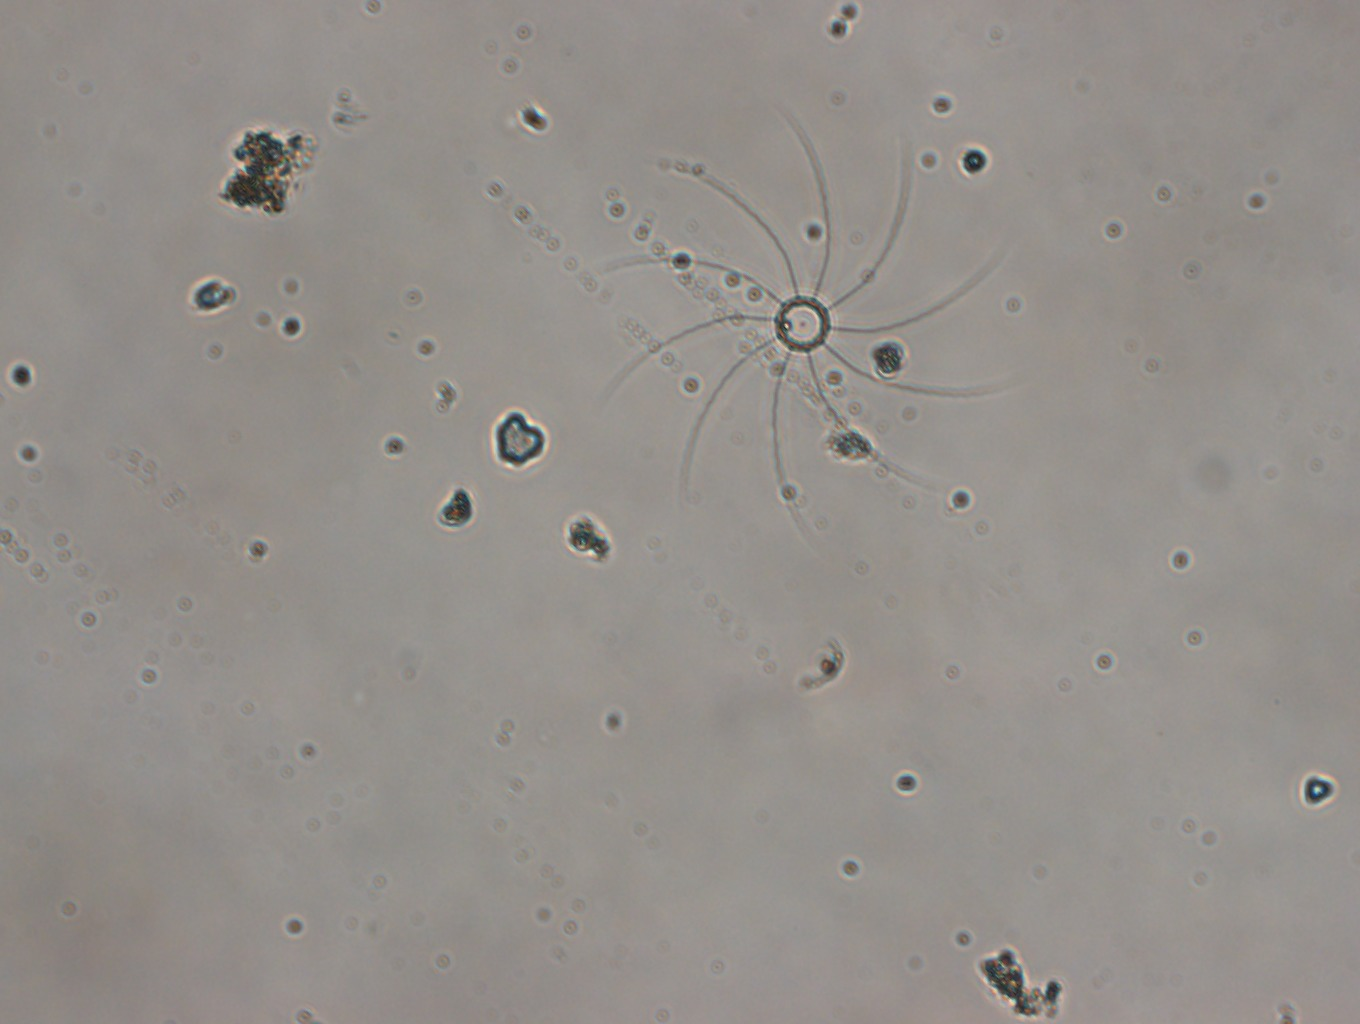bacteriastrum: (616, 136, 999, 506)
